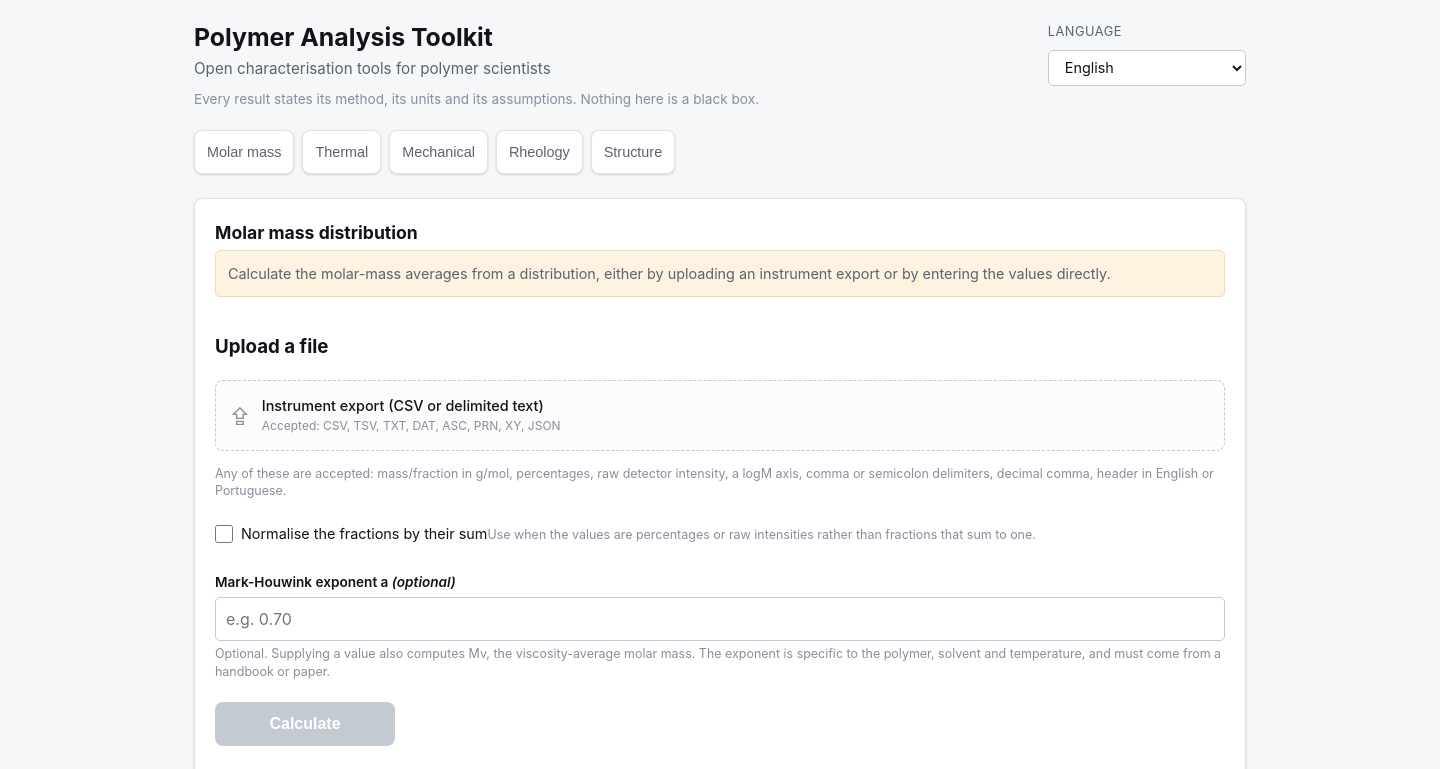
reference enthalpy from the internal database › an amorphous polymer is offered as not applicable, with no number
Click the button "Thermal": (342, 152) [302,130,381,174]
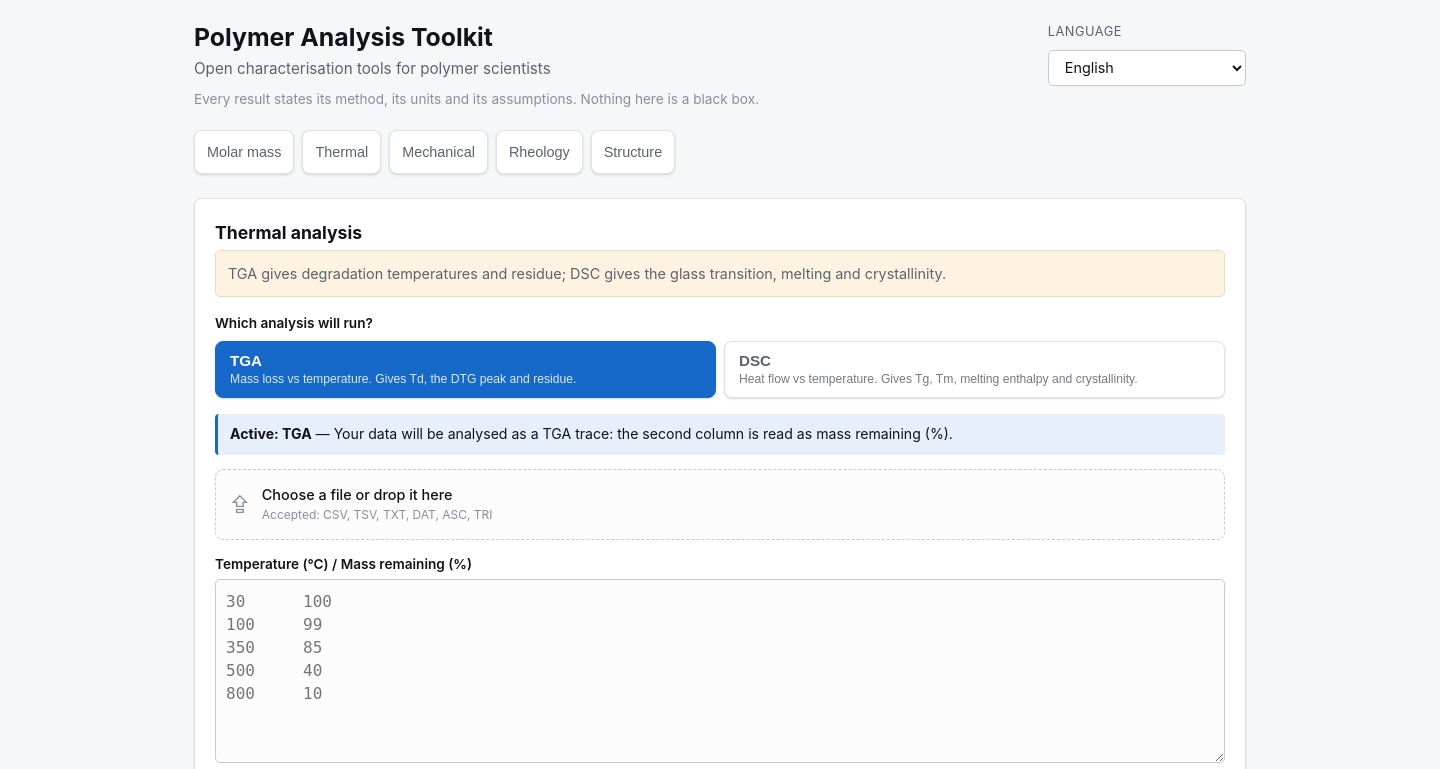
Click the tab "DSC": (974, 369) [724,340,1225,398]
(page scrolled)
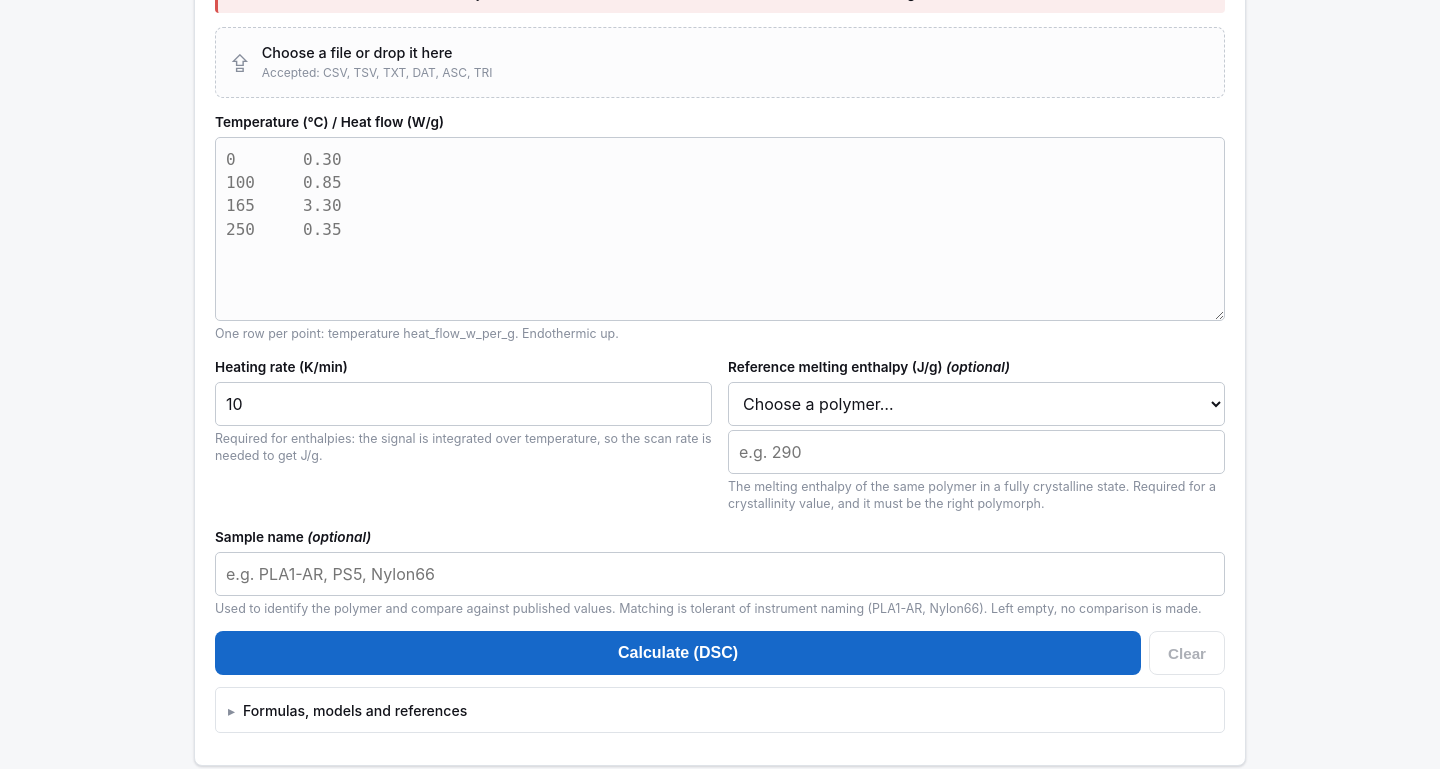
Now the label that starts with "Reference melting enthalpy (J/g)" is shown, box [728,357,1225,513]
Now the dropdown is shown
Select "Poliestireno atático (PS, GPPS/HIPS) — amorphous, not applicable" in the dropdown: (976, 404) [728,382,1225,426]
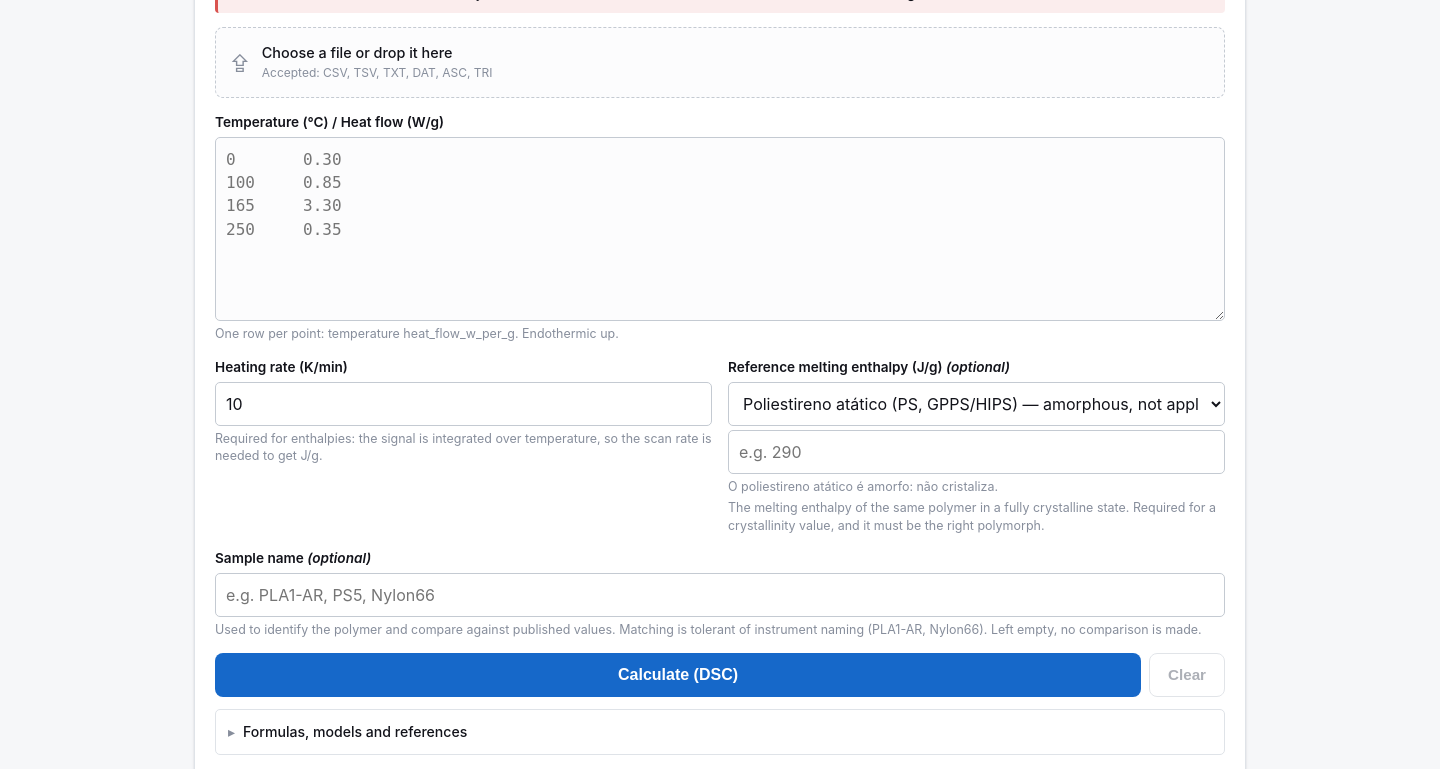
Now the number field with placeholder "e.g. 290" is empty, box [728,430,1225,474]
Now the text "O poliestireno atático é amorfo: não cristaliza." is shown, box [728,479,998,494]
